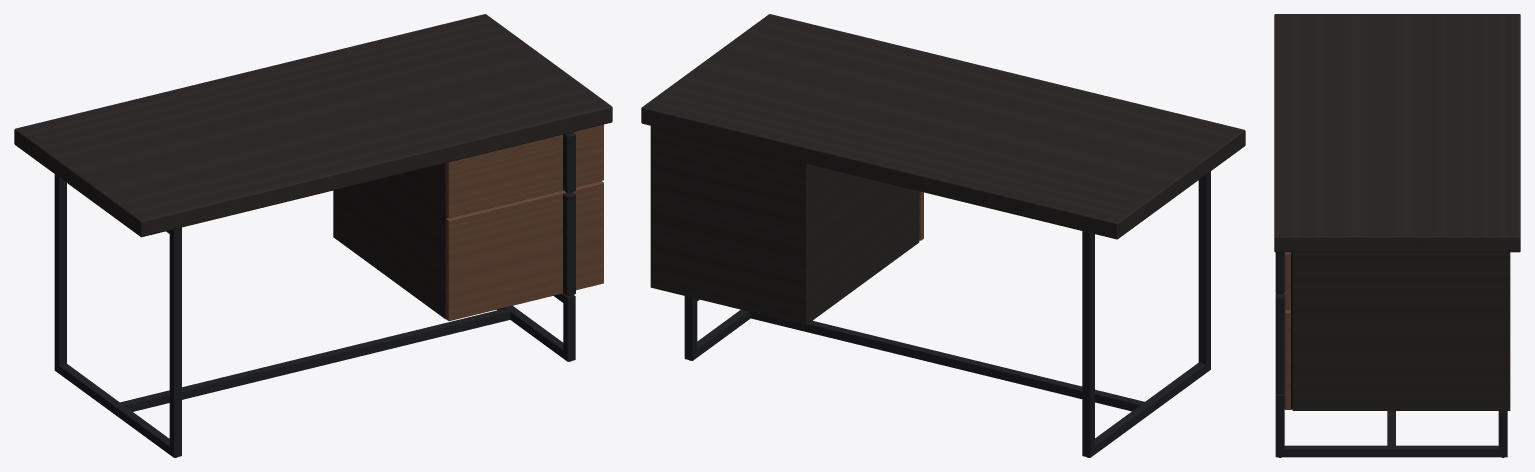
The model's file is ownEgger.glb.
3 renders of one model, left to right at view 1: azimuth 30°, elevation 25°; view 2: azimuth 150°, elevation 25°; view 3: azimuth 270°, elevation 25°, orthographic. The views are drawn at different scales.
Size of the model in its own units: 1.5 by 0.75 by 0.7.
5 materials, 2 textured.
